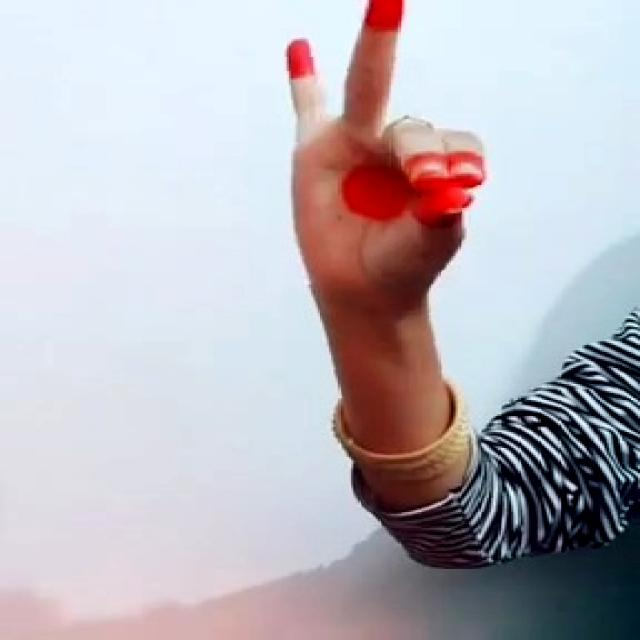Katakamukha: (238, 0, 524, 296)
bangle: (297, 376, 494, 487)
